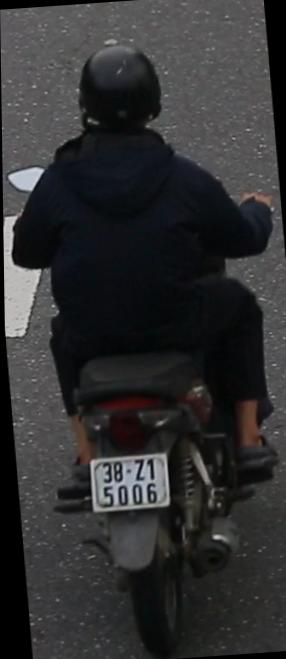LP: (84, 445, 175, 522)
helmet: (69, 35, 168, 144)
